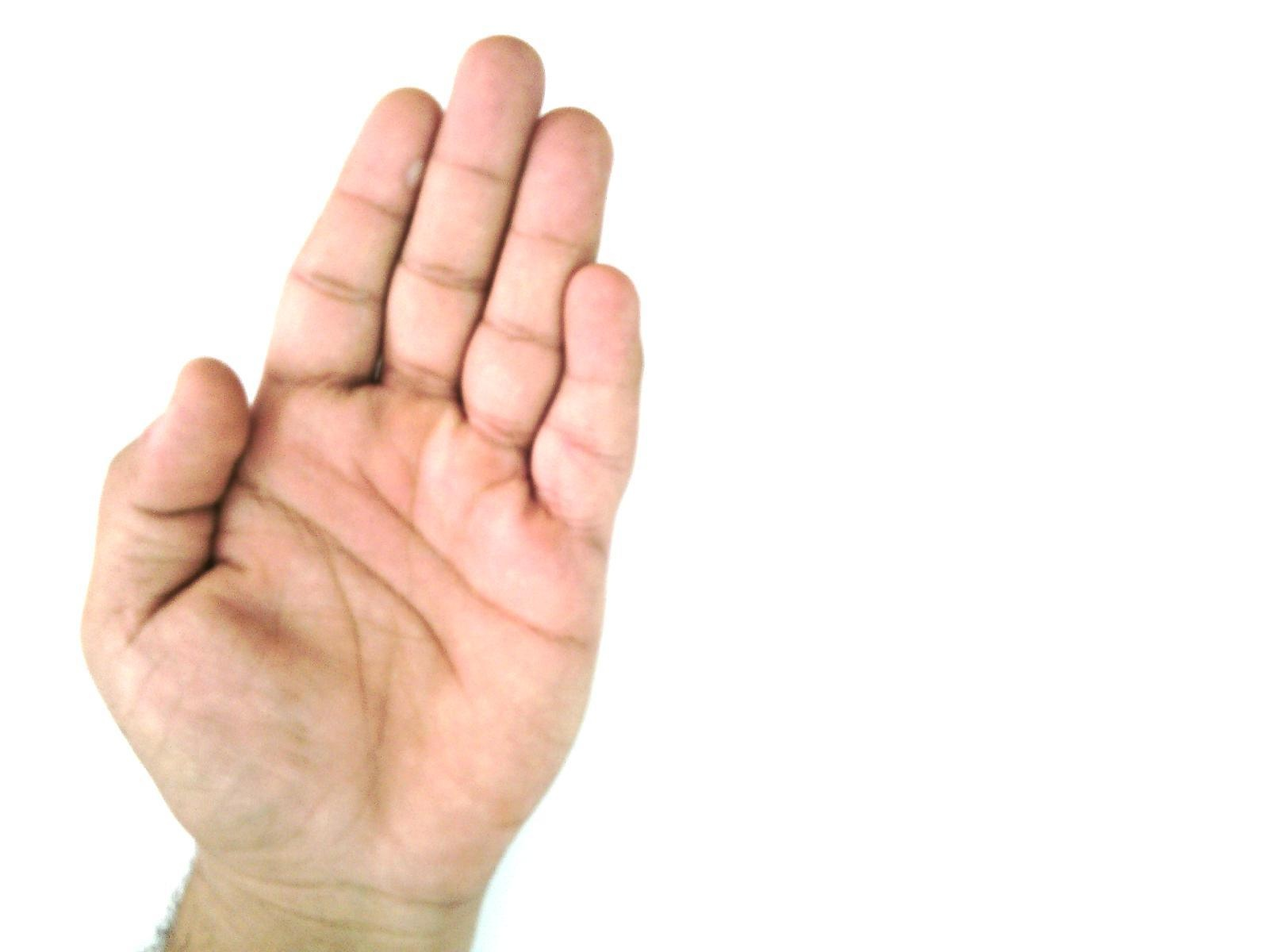open_palm: (79, 33, 648, 921)
